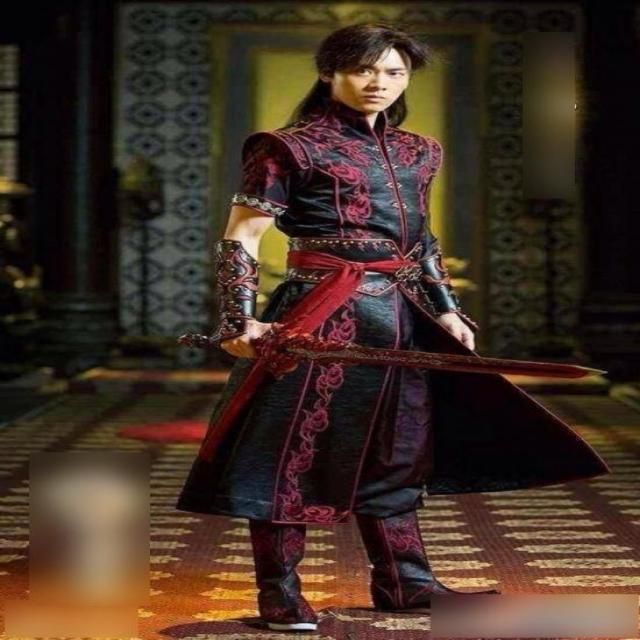obstacle: (181, 16, 548, 633)
